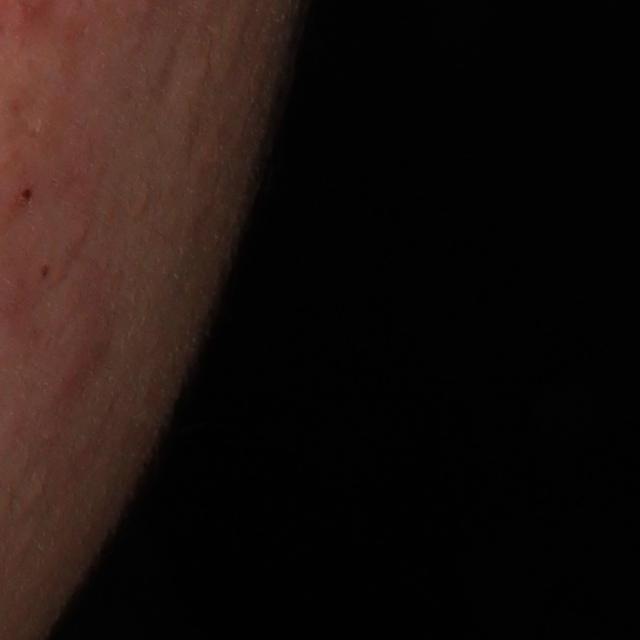nevus: (39, 262, 53, 280)
